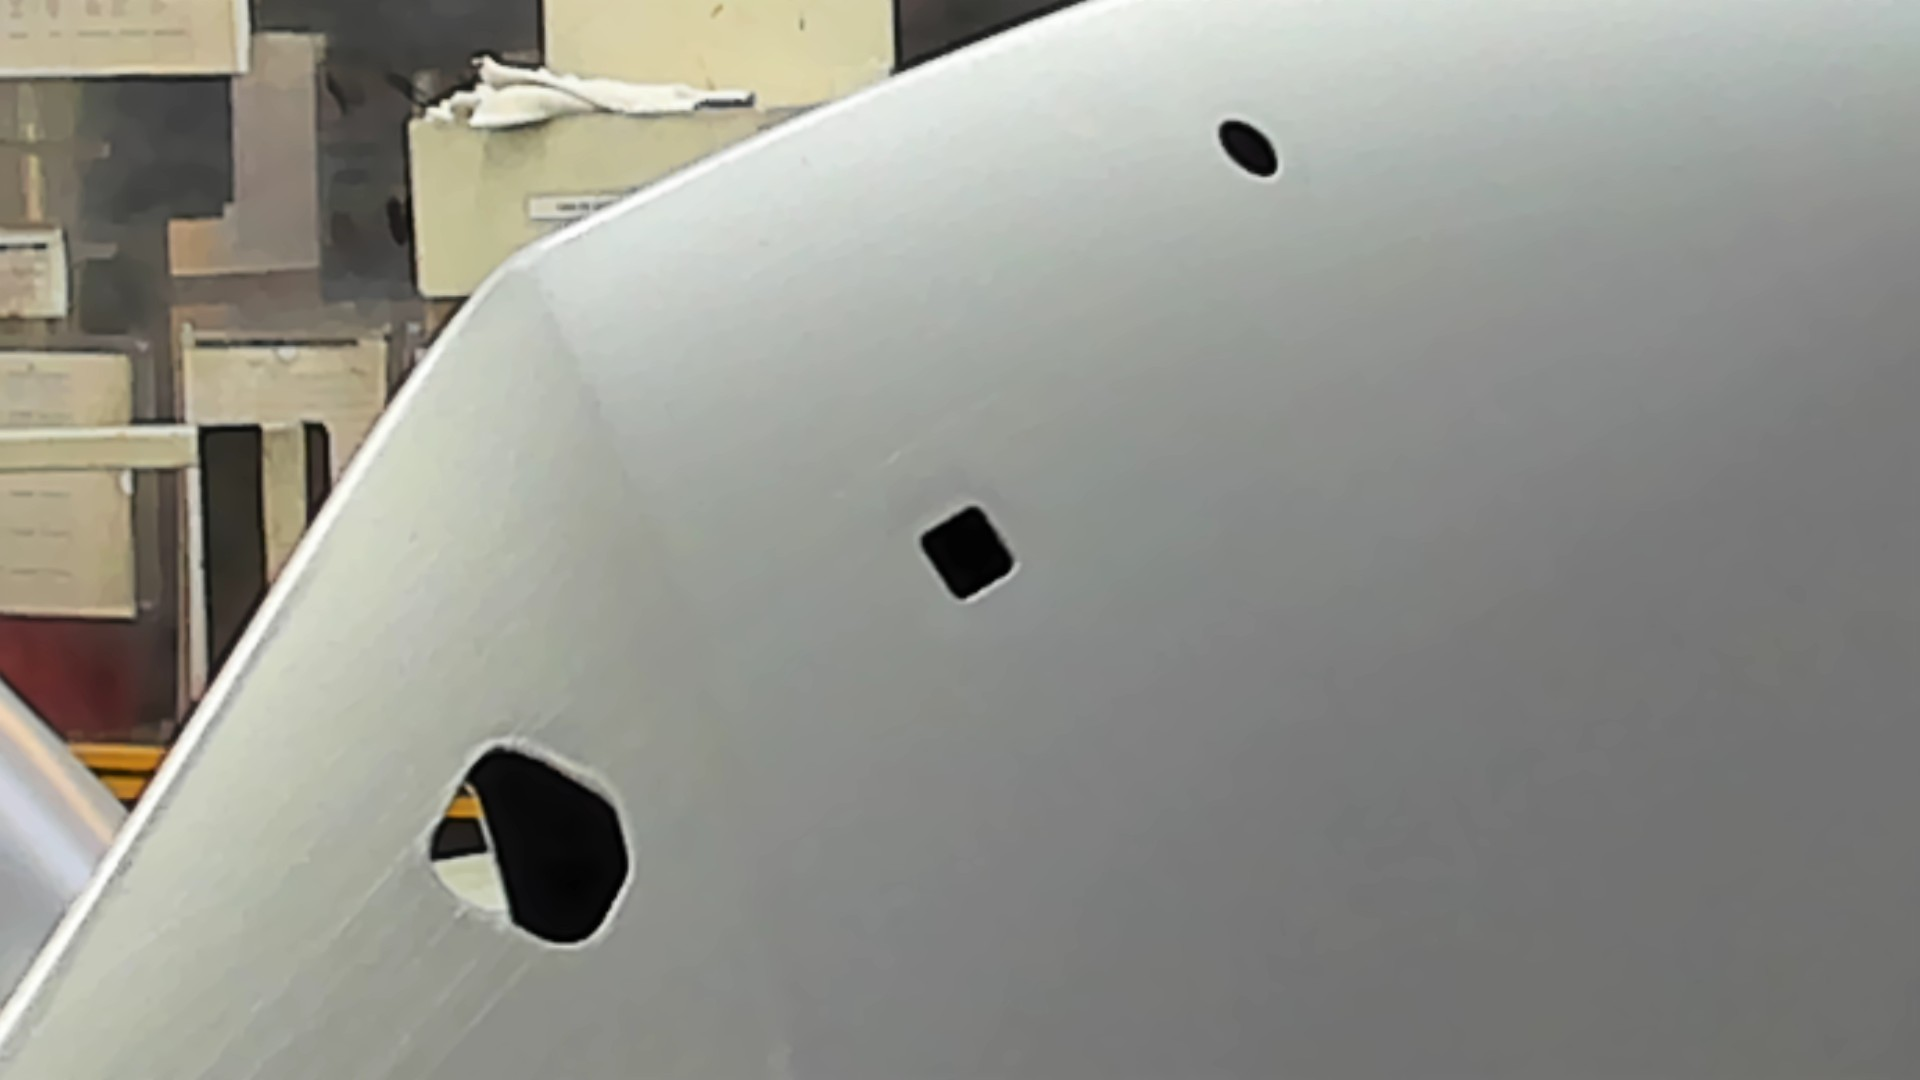chico: (1216, 117, 1284, 182)
grande: (421, 733, 645, 957)
mediano: (913, 498, 1023, 611)
